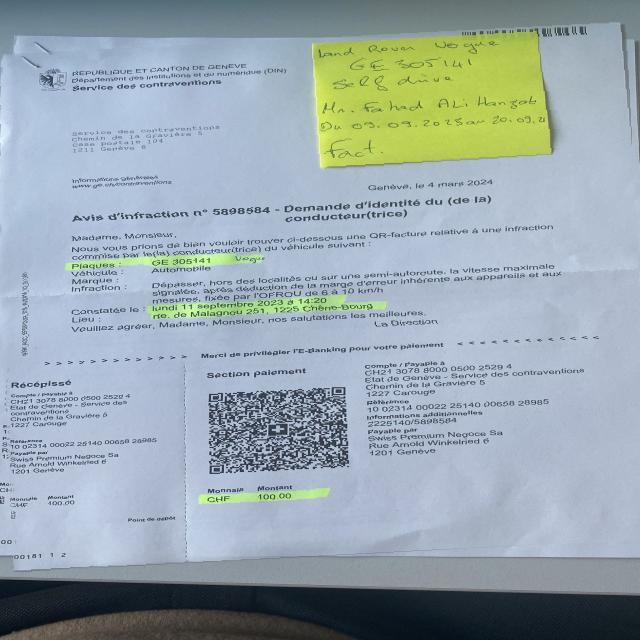paper-document-: (4, 22, 640, 570)
